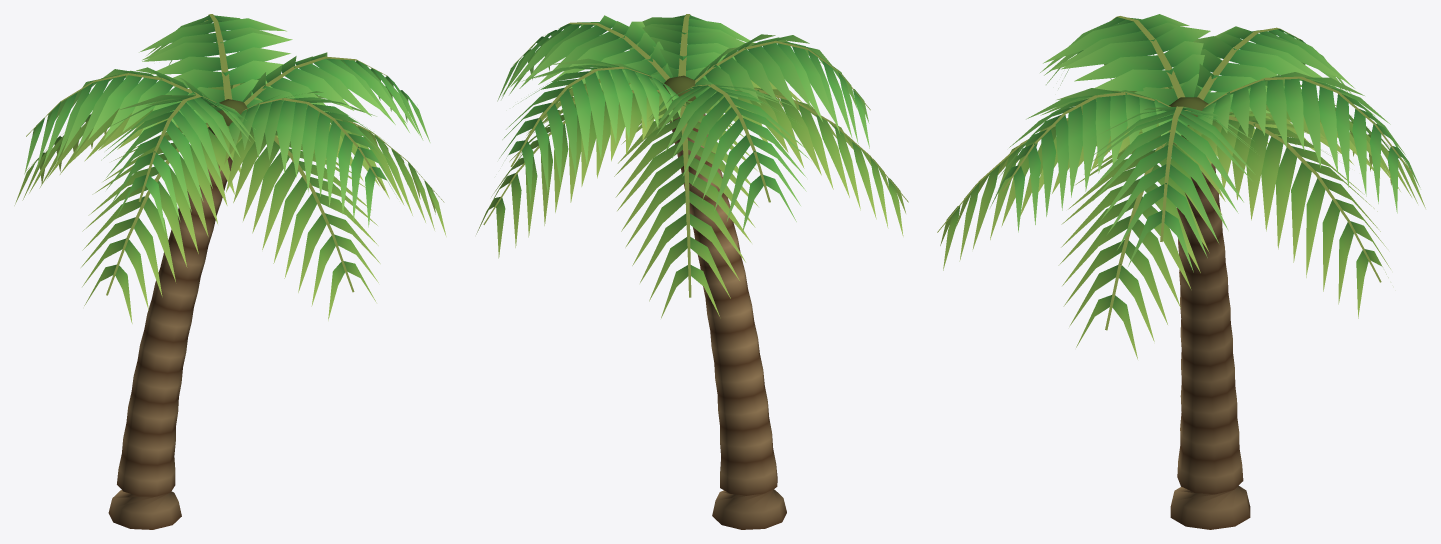
Rendered from palm_ac_lod1.glb.
The picture shows the model from 3 angles, left to right: view 1: azimuth 30°, elevation 25°; view 2: azimuth 150°, elevation 25°; view 3: azimuth 270°, elevation 25°; orthographic projection. The views are drawn at different scales.
Parts seen in each view (by area): view 1: palm_ac.001; view 2: palm_ac.001; view 3: palm_ac.001.
Boxes of the visible parts, left/top/right/bottom form: palm_ac.001: left=14, top=14, right=446, bottom=529; palm_ac.001: left=476, top=14, right=908, bottom=529; palm_ac.001: left=937, top=14, right=1425, bottom=529.
Bounding box in the file's own units: 3.66 × 4.19 × 3.75.
